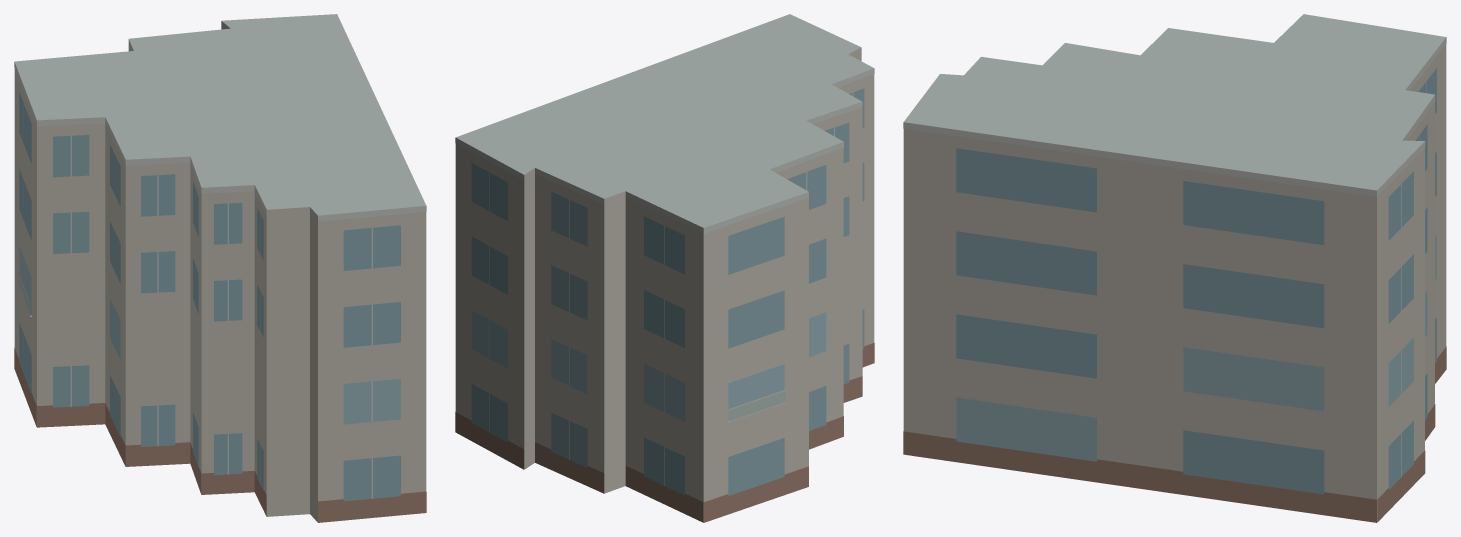
File: survey-upis-32763747.glb
The picture shows the model from 3 angles, left to right: view 1: azimuth 30°, elevation 25°; view 2: azimuth 150°, elevation 25°; view 3: azimuth 270°, elevation 25°; orthographic projection. The views are drawn at different scales.
Parts seen in each view (by area): view 1: survey-upis-32763747.tmp; view 2: survey-upis-32763747.tmp; view 3: survey-upis-32763747.tmp.
Boxes of the visible parts, x1=… form: survey-upis-32763747.tmp: x1=14, y1=14, x2=426, y2=522; survey-upis-32763747.tmp: x1=455, y1=14, x2=874, y2=522; survey-upis-32763747.tmp: x1=903, y1=14, x2=1446, y2=522.
Size of the model in its own units: 14.3 by 12.55 by 18.59.
